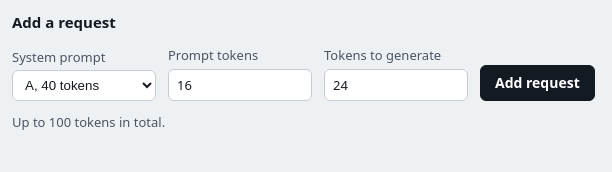
it: AddRequestForm › counts the system prompt toward the pool before sending
The image size is (612, 172).
Replace the text in the number field labelled "Prompt tokens" with "40": (240, 85) [168,69,312,101]
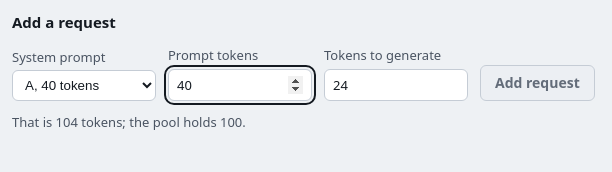
Replace the text in the number field labelled "Tokens to generate" with "30": (396, 85) [324,69,468,101]
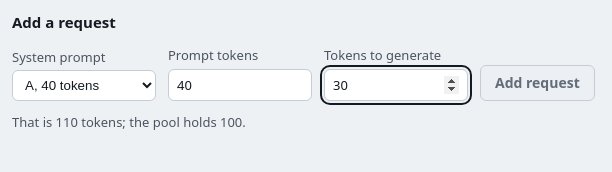
Result: the button "Add request" is disabled at [480,65,595,101]
Result: the text "That is 110 tokens; the pool holds 100." is shown at [12,113,246,131]
